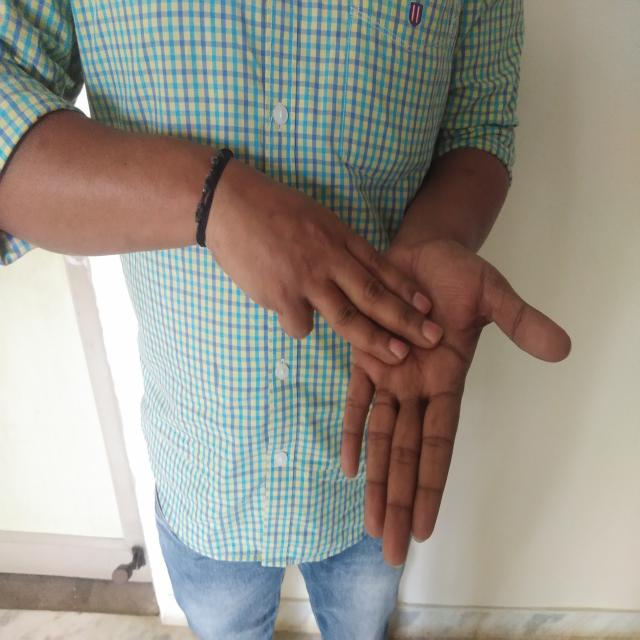M: (200, 160, 591, 576)
